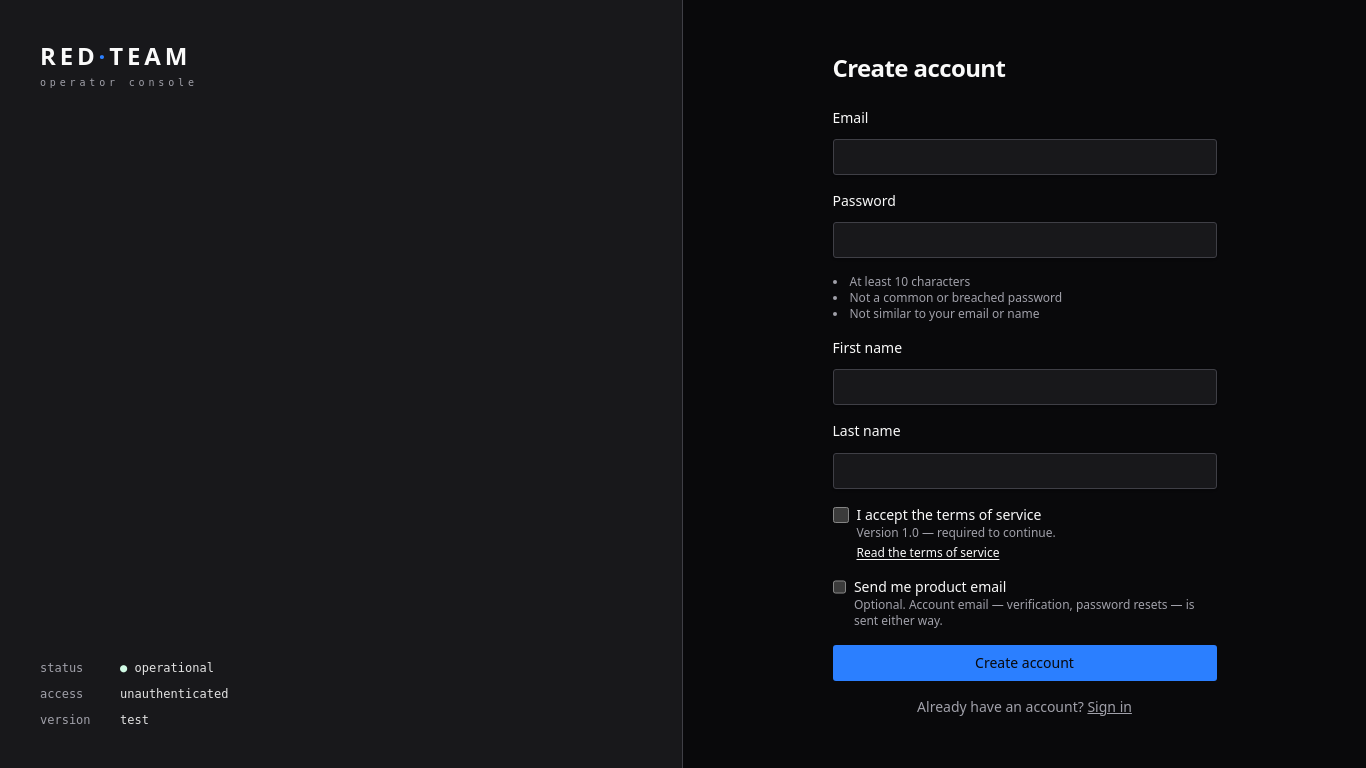
RegisterPage — terms read failures › re-reads the terms and clears the tick when the version moved under the form
expect the checkbox labelled "I accept the terms of service" is shown: met, box [832,506,848,522]
Type "test@example.com" into the field labelled "Email" at (1024, 157), box [832,139,1216,175]
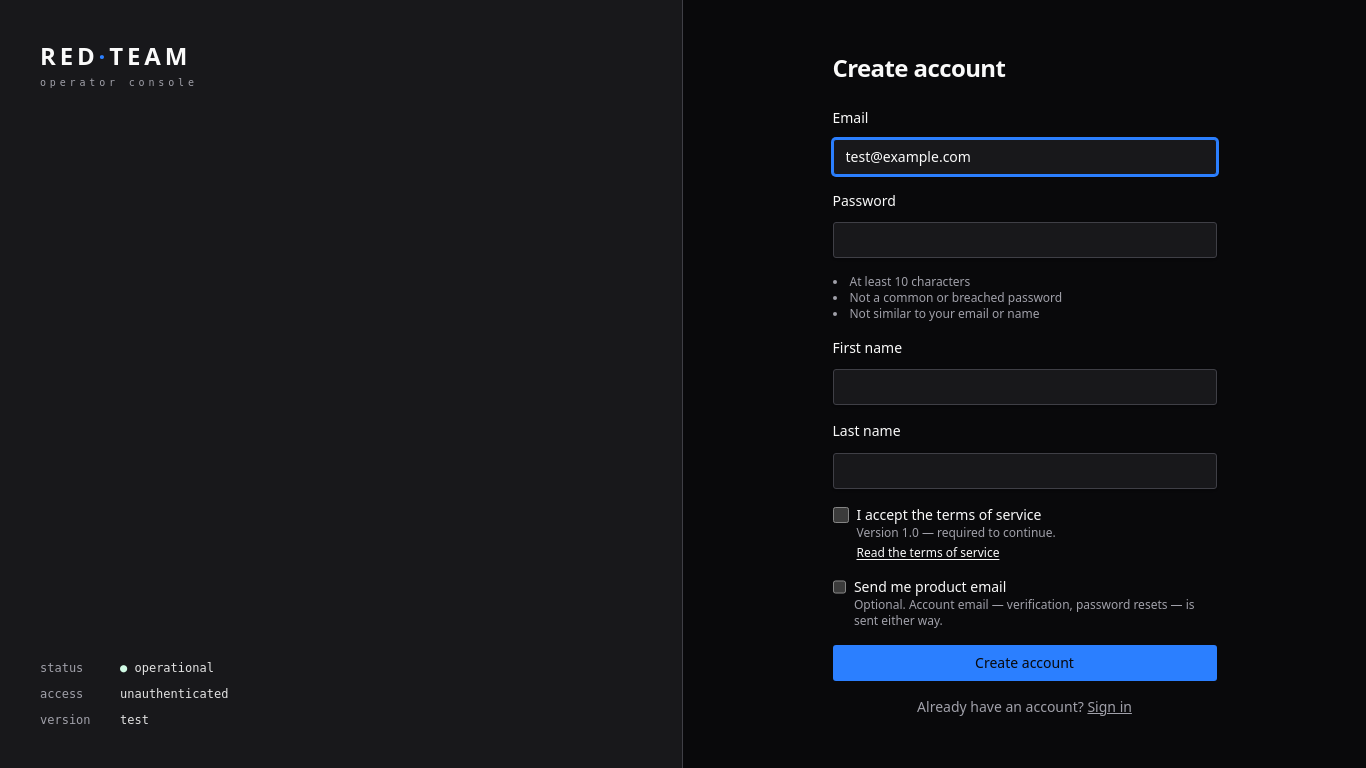
Type "longenough123" into the password field labelled "Password" at (1024, 240), box [832,222,1216,258]
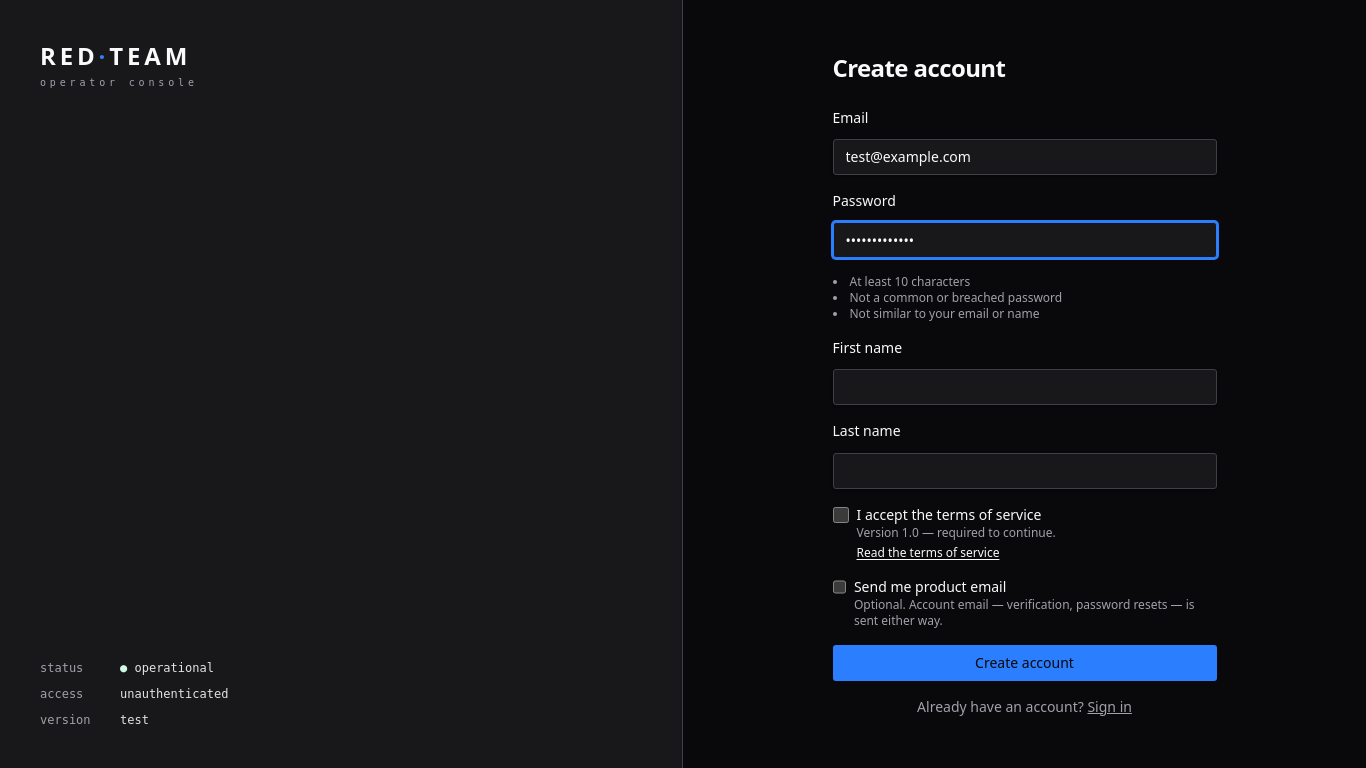
Click the checkbox labelled "I accept the terms of service" at (840, 514), box [832,506,848,522]
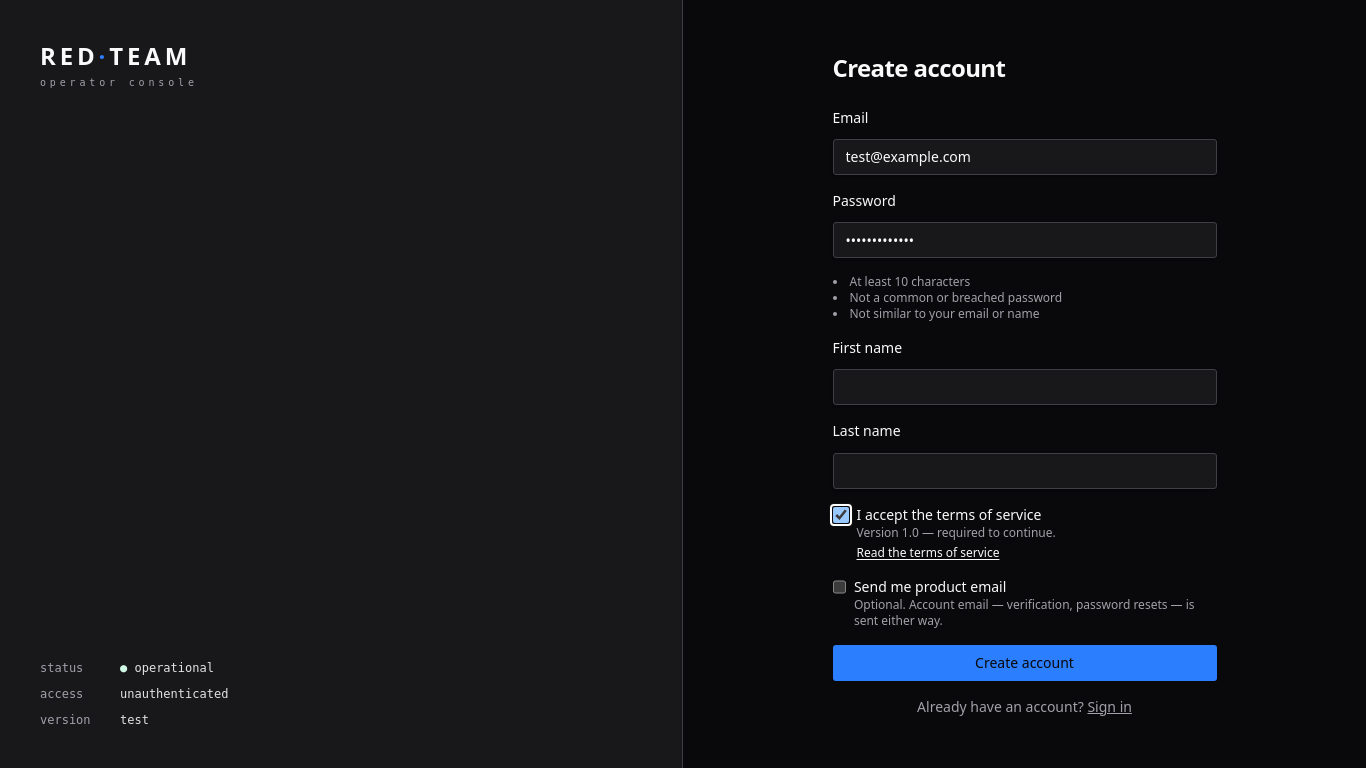
Click the button "Create account" at (1024, 662), box [832,644,1216,680]
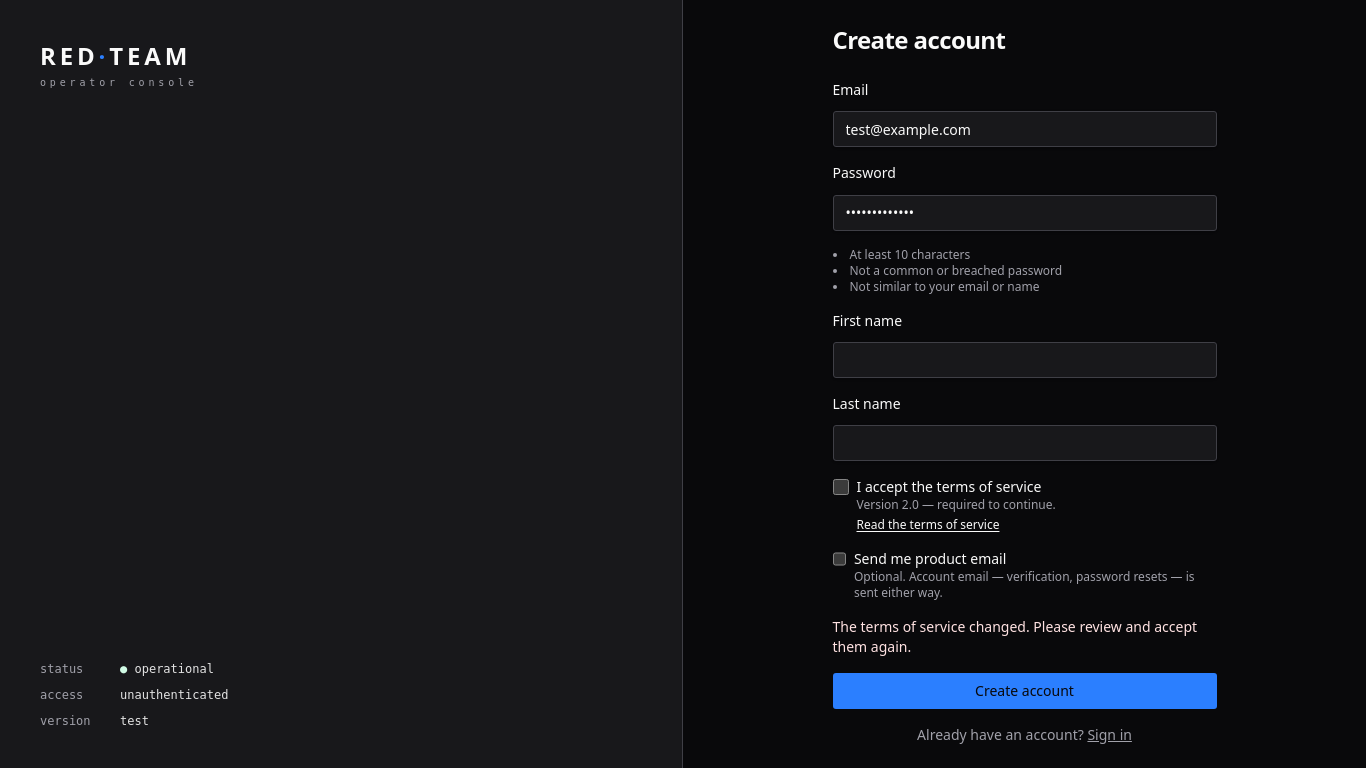
expect the checkbox labelled "I accept the terms of service" is not checked: met, box [832,479,848,495]
expect the text "terms of service changed" is shown: met, box [832,617,1197,656]
expect the text "Version 2.0 — required to continue." is shown: met, box [856,497,1056,513]
